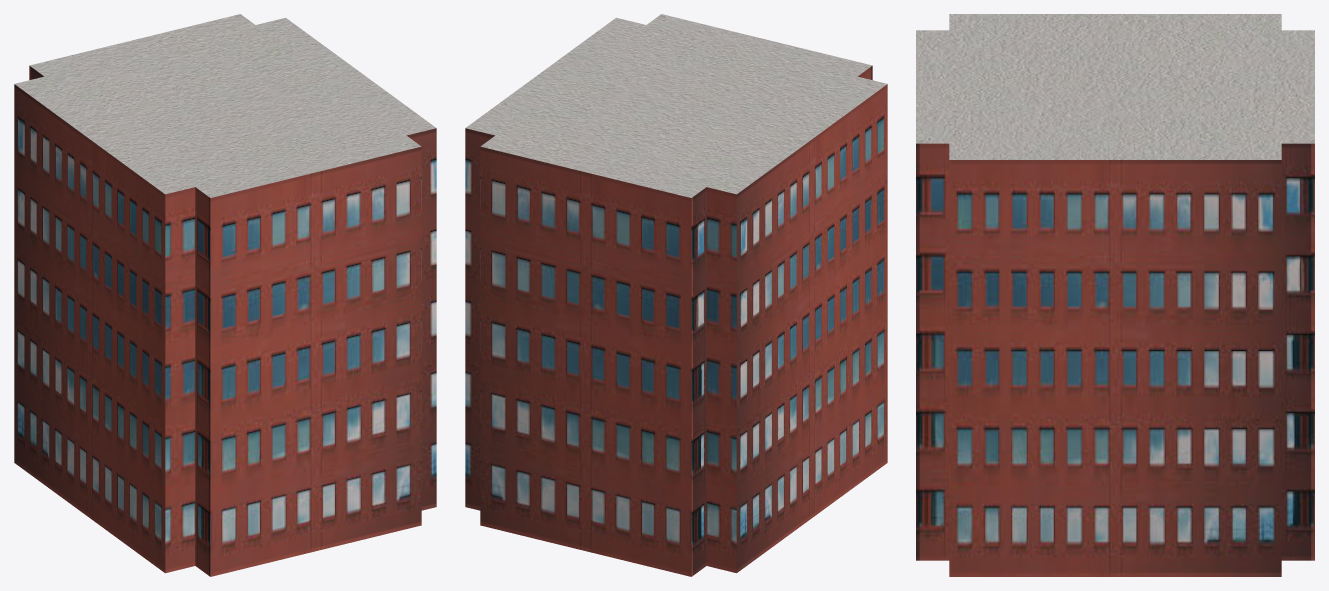
Rendered from building_033.fbx.
3 views of the same model, side by side, from view 1: azimuth 30°, elevation 25°; view 2: azimuth 150°, elevation 25°; view 3: azimuth 270°, elevation 25° (orthographic). The views are drawn at different scales.
Parts seen in each view (by area): view 1: building_033; view 2: building_033; view 3: building_033.
Boxes of the visible parts, x1=… form: building_033: x1=14, y1=14, x2=436, y2=576; building_033: x1=465, y1=14, x2=887, y2=576; building_033: x1=916, y1=14, x2=1314, y2=576.
Size of the model in its own units: 1350 by 1800 by 1560.
